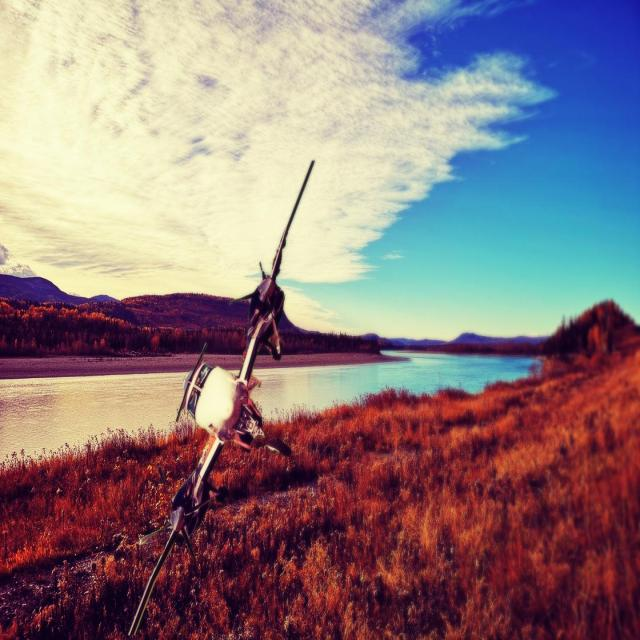airplane: (127, 158, 316, 636)
